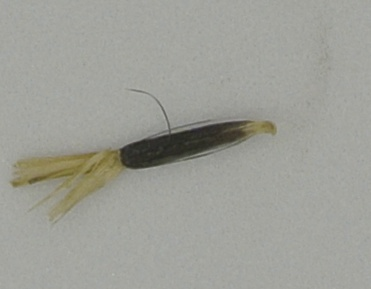เมล้ดปลายพู่กัน: (10, 88, 277, 227)
